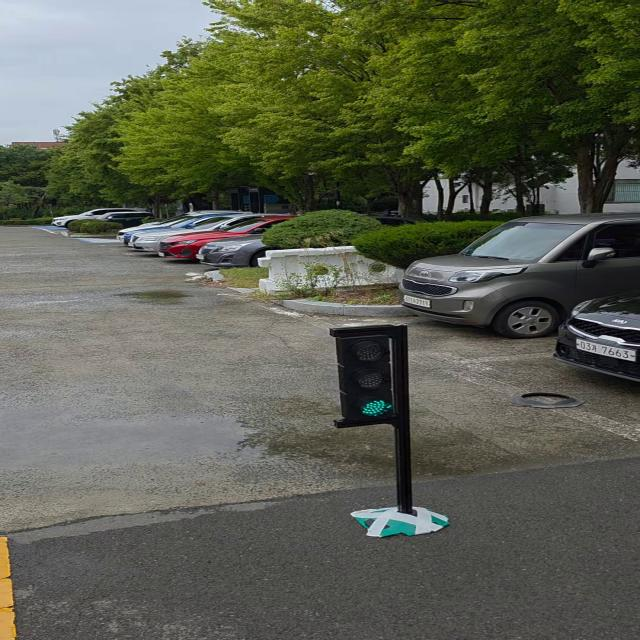green: (338, 332, 403, 426)
